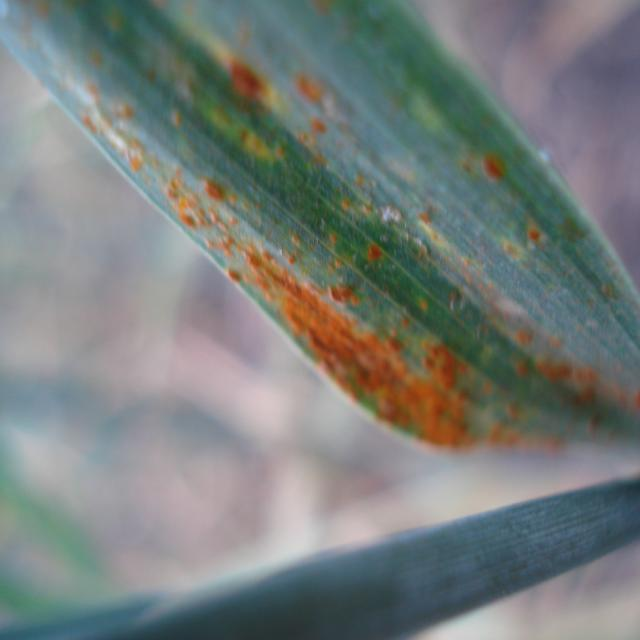wheat-stemrust: (64, 102, 568, 463), (510, 329, 639, 437), (227, 55, 273, 104), (479, 152, 505, 181)
